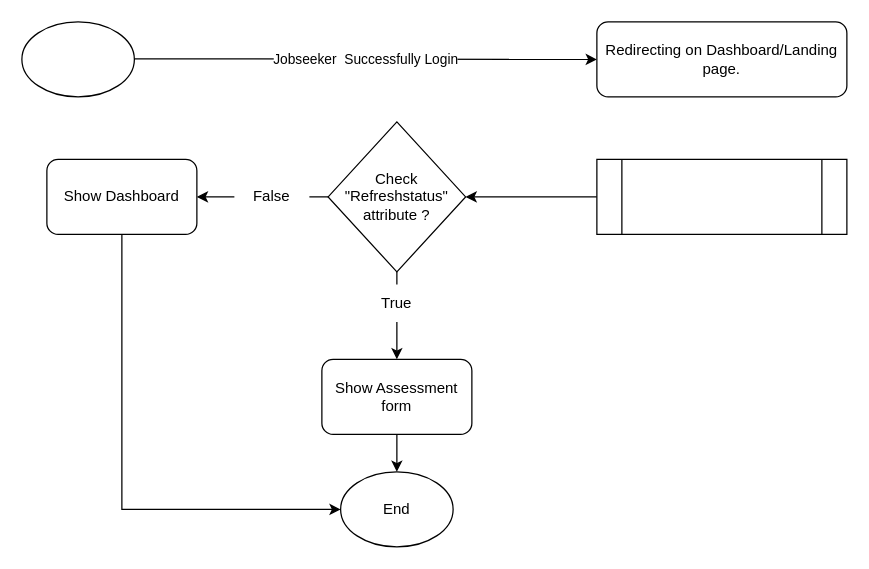
This 869x569 diagram has some shape labels left out. Each missing label, with the box of its shape:
Call HRA getDashboard API to get jobseeker details: (596, 158, 847, 234)
Start: (21, 21, 134, 97)
